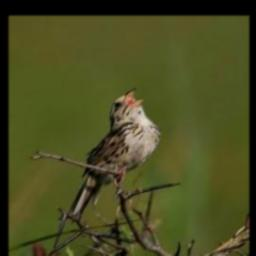Sparrow: (65, 87, 165, 228)
